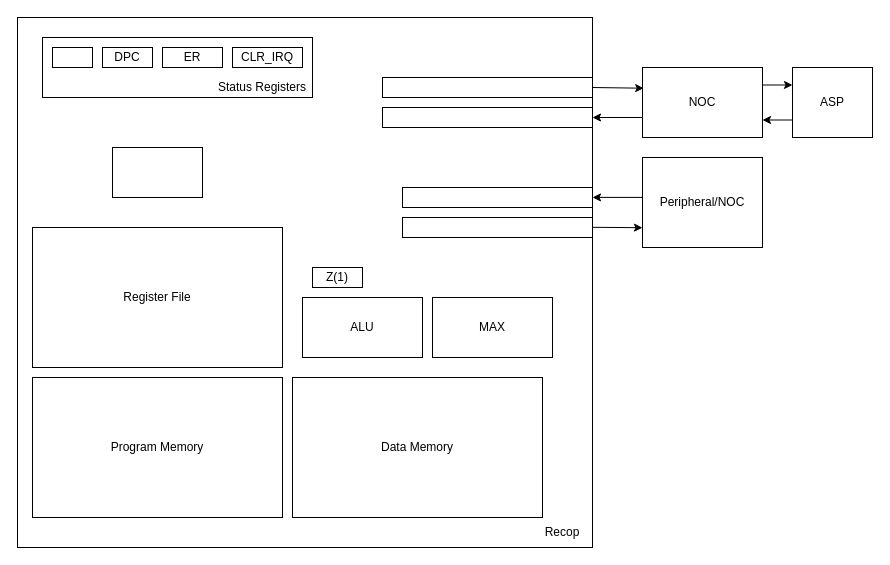
Image size: 890x565. Some labels were removed from this diagram. Here are the shapes that lost their labels. From the top down, the centre of each, then its label:
At (72,57): "EOT".
At (487,87): "Data Processing Control Register(32)".
At (487,117): "Data Processing Result Register[2:0]".
At (157,172): "Control Unit".
At (497,197): "Special Input Port (16)".
At (497,227): "Special Output Port（16）".
